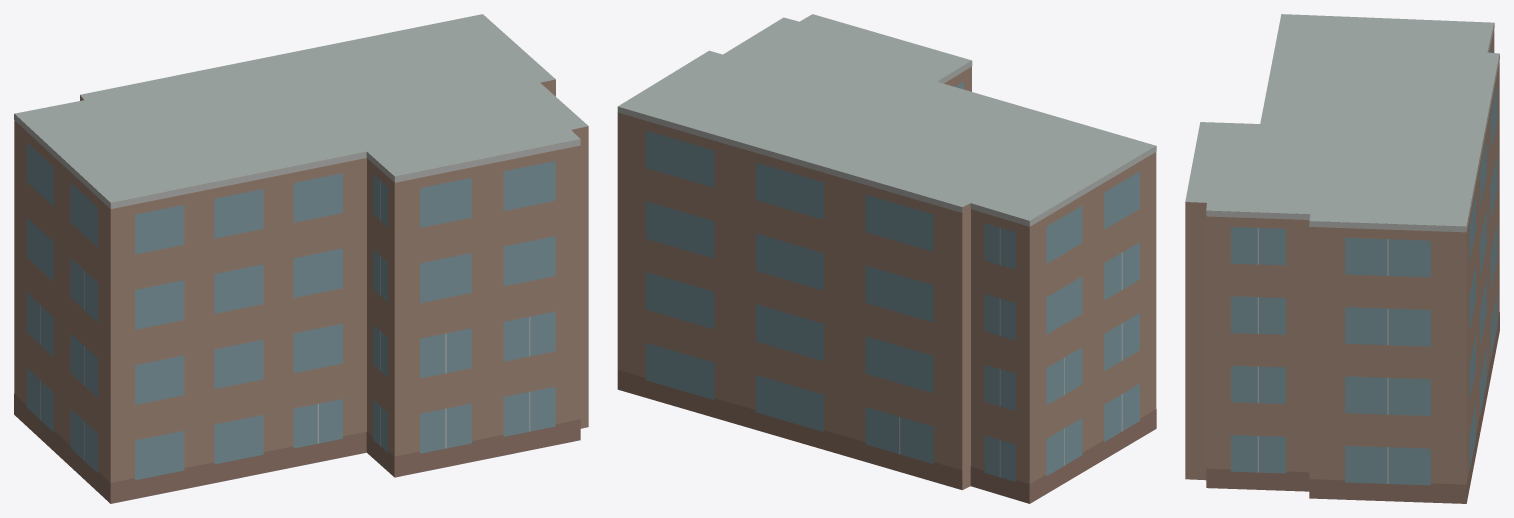
Rendered from survey-upis-32638255.glb.
The picture shows the model from 3 angles, left to right: view 1: azimuth 30°, elevation 25°; view 2: azimuth 150°, elevation 25°; view 3: azimuth 270°, elevation 25°; orthographic projection. The views are drawn at different scales.
Parts seen in each view (by area): view 1: survey-upis-32638255.tmp; view 2: survey-upis-32638255.tmp; view 3: survey-upis-32638255.tmp.
Boxes of the visible parts, <box> form: survey-upis-32638255.tmp: <box>14,14,588,503</box>; survey-upis-32638255.tmp: <box>617,14,1156,503</box>; survey-upis-32638255.tmp: <box>1185,14,1499,503</box>.
Bounding box in the file's own units: 19.07 × 11.6 × 11.93.
